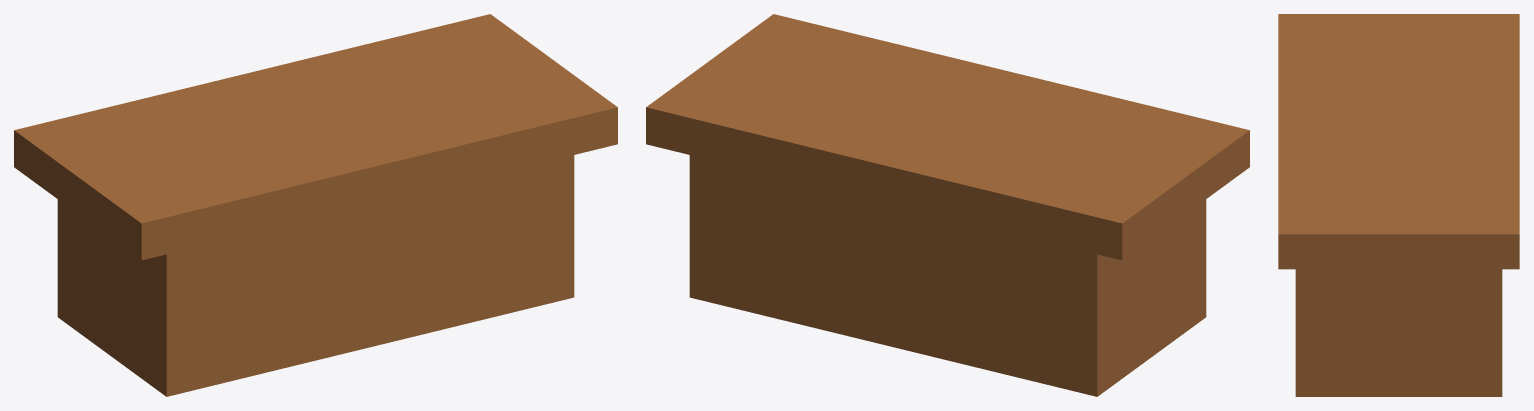
The model's file is Table outline.fbx.
3 renders of one model, left to right at view 1: azimuth 30°, elevation 25°; view 2: azimuth 150°, elevation 25°; view 3: azimuth 270°, elevation 25°, orthographic. The views are drawn at different scales.
Parts seen in each view (by area): view 1: Table; view 2: Table; view 3: Table.
Part boxes in pixels (box(x1,y1,x2,y2)): Table: box(14, 14, 617, 396); Table: box(646, 14, 1249, 396); Table: box(1278, 14, 1519, 396).
Size of the model in its own units: 152 by 57.64 by 70.65.
